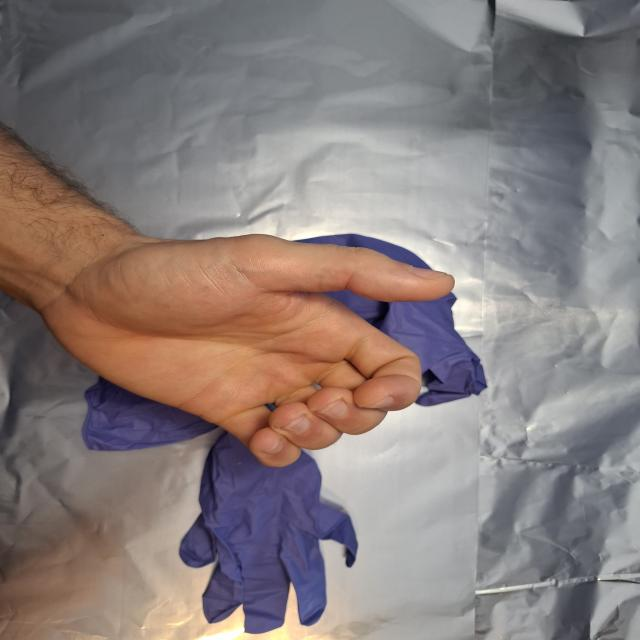glove_off: (35, 232, 458, 470)
